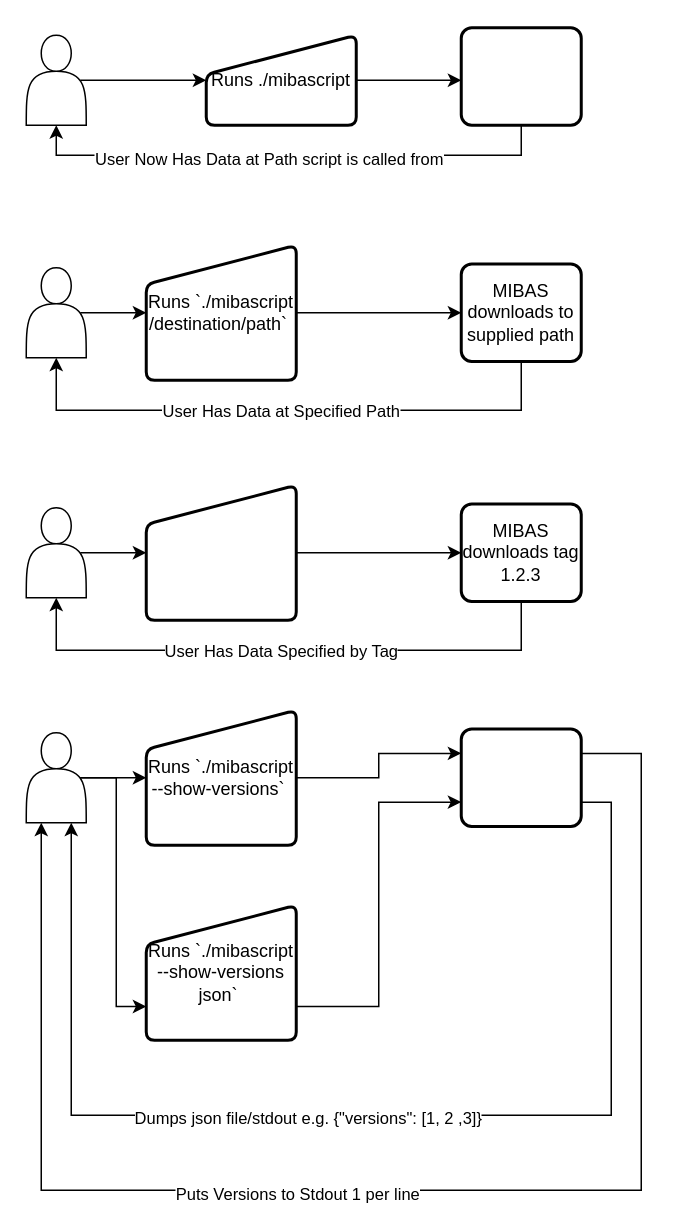
This 680x1229 diagram has some shape labels left out. The centre of each missing label's shape, as x and y in pixels:
"MIBAS downloads" goes at pixel 520 76.
"Queries Existing Versions" goes at pixel 520 777.
"Runs `./mibascript --tag 1.2.3`" goes at pixel 220 552.
